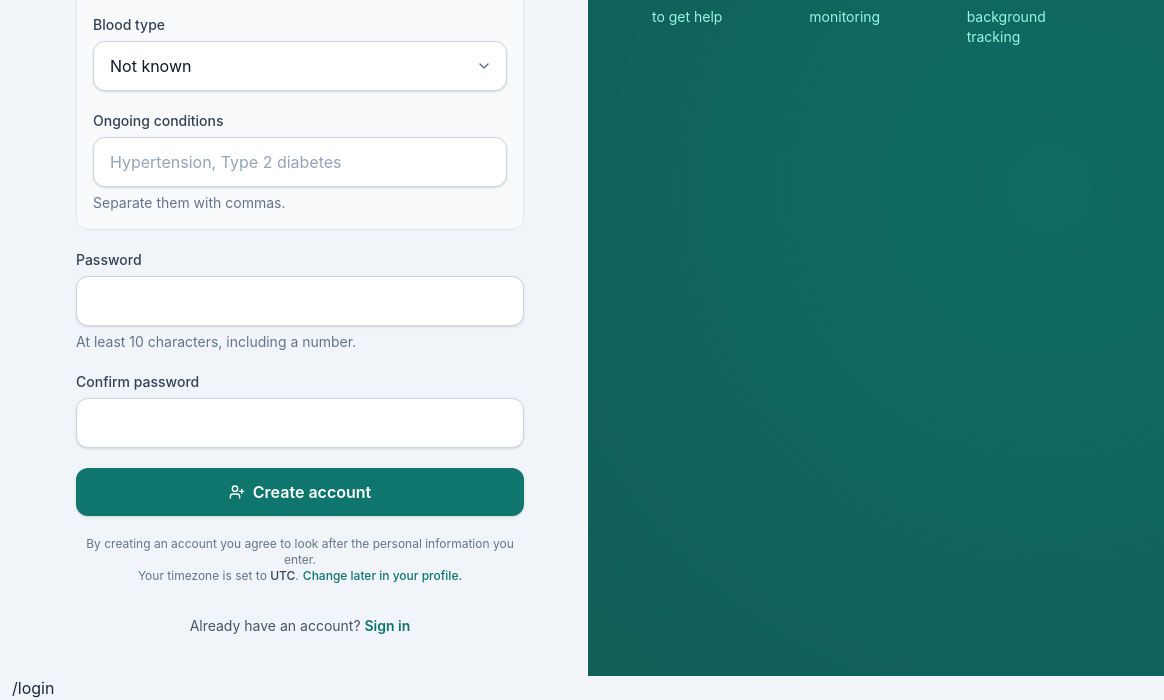
Register form › requires a name, an e-mail address and a valid password
(page scrolled)
Click the button "Create account" at (300, 492), box top-left (76, 468), bottom-right (524, 516)
(page scrolled)
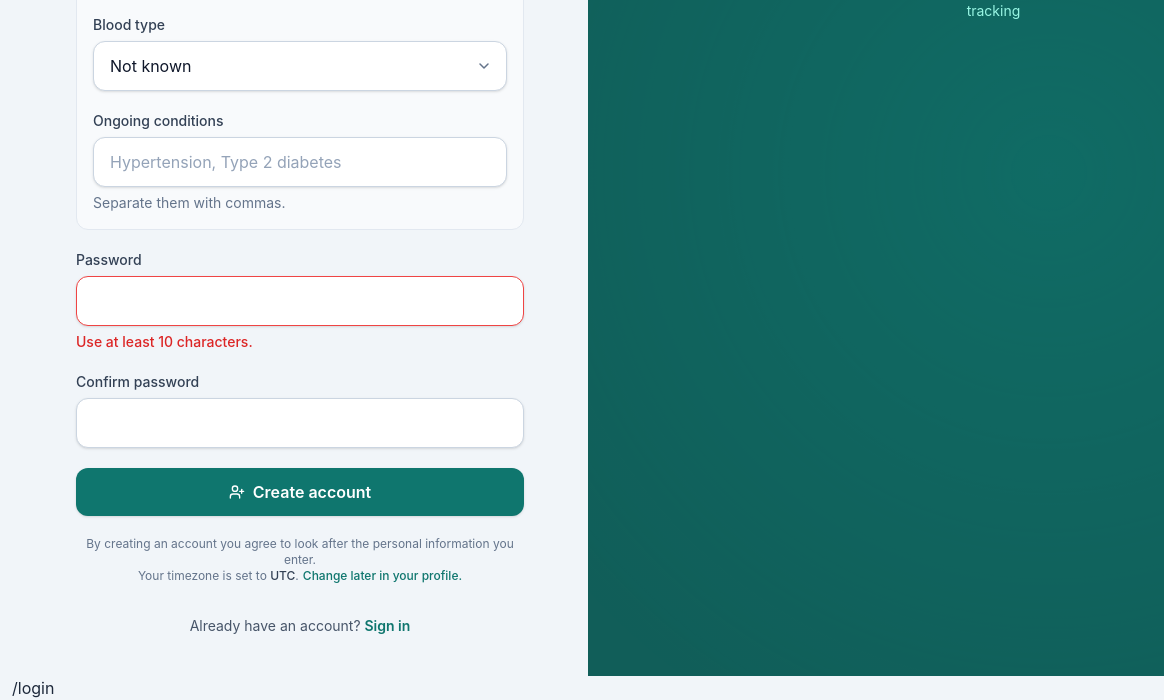
Now the text "Use at least 10 characters." is shown, box top-left (76, 333), bottom-right (253, 350)
